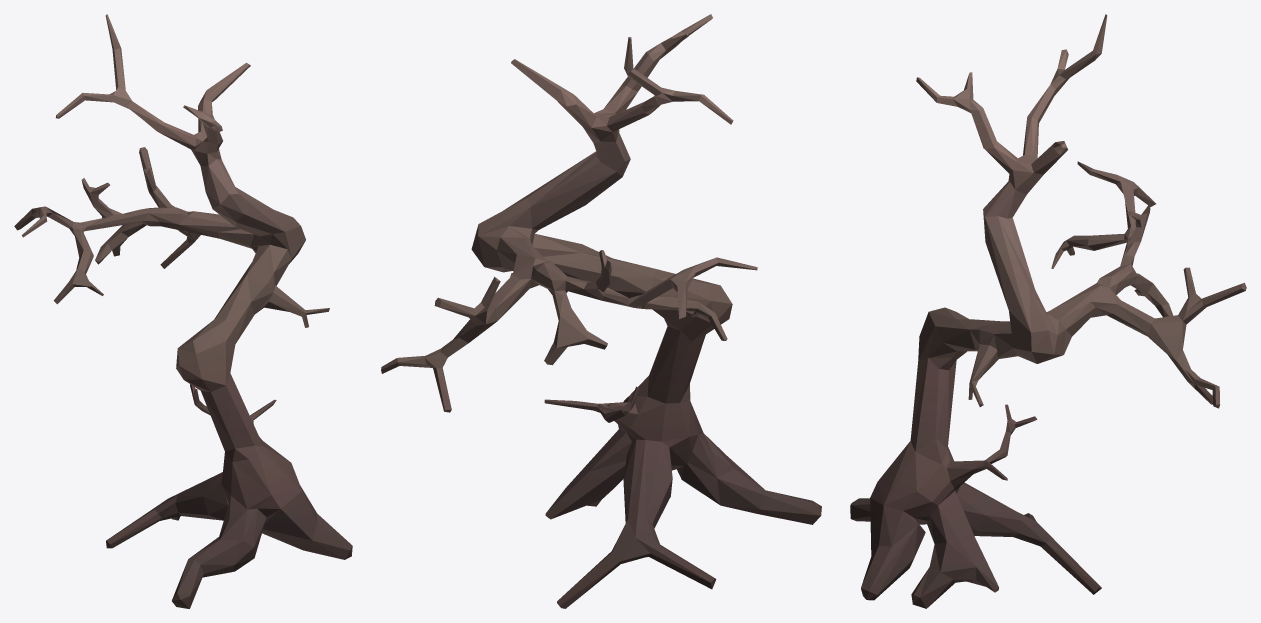
File: tree-8.glb
The picture shows the model from 3 angles, left to right: view 1: azimuth 30°, elevation 25°; view 2: azimuth 150°, elevation 25°; view 3: azimuth 270°, elevation 25°; orthographic projection. The views are drawn at different scales.
Visible parts, largest first — view 1: tree8; view 2: tree8; view 3: tree8.
Part boxes in pixels (x1,y1,x2,y2): tree8: (14, 14, 352, 608); tree8: (381, 14, 821, 608); tree8: (850, 14, 1246, 608).
Bounding box in the file's own units: 1.87 × 3.53 × 2.32.
1 material, 1 textured.
